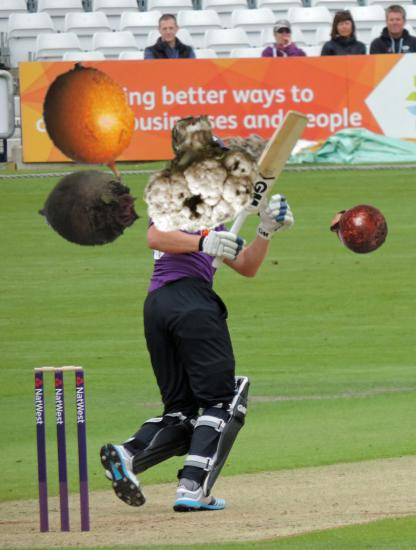Beetroot: (37, 154, 146, 263)
Cauliflower: (136, 111, 261, 236)
Granadilla: (26, 62, 159, 195)
Mangostan: (331, 198, 390, 257)
